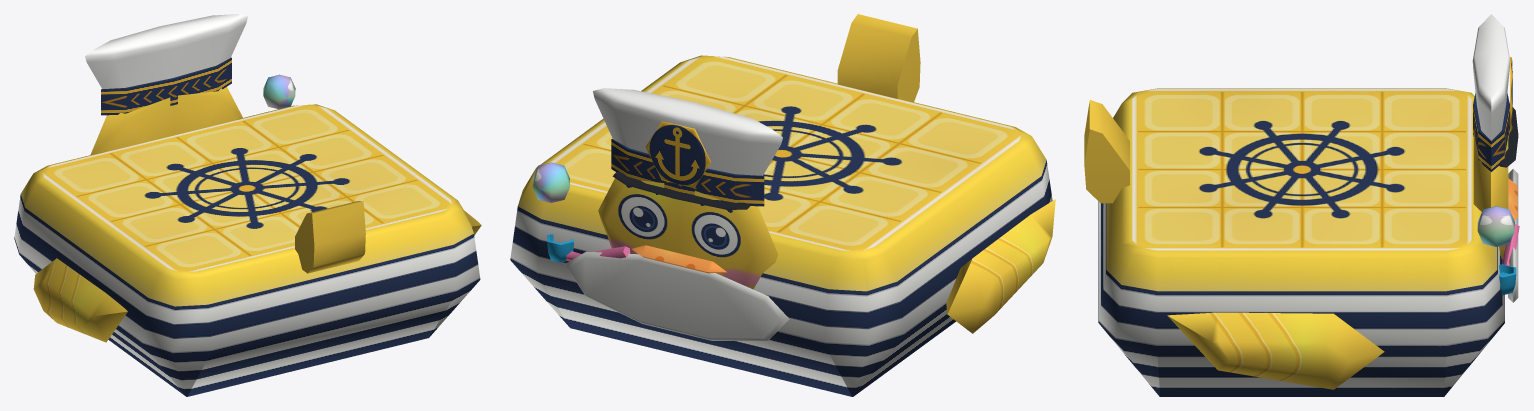
File: pool_duck_captain_lod1.glb
3 renders of one model, left to right at view 1: azimuth 30°, elevation 25°; view 2: azimuth 150°, elevation 25°; view 3: azimuth 270°, elevation 25°, orthographic. The views are drawn at different scales.
Parts seen in each view (by area): view 1: pool_duck_captain_LOD1; view 2: pool_duck_captain_LOD1; view 3: pool_duck_captain_LOD1.
Part boxes in pixels (<box>): pool_duck_captain_LOD1: <box>14,14,481,396</box>; pool_duck_captain_LOD1: <box>510,14,1055,396</box>; pool_duck_captain_LOD1: <box>1084,14,1519,396</box>.
Bounding box in the file's own units: 24 × 14 × 20.
Materials: 1 (1 with a texture image).
